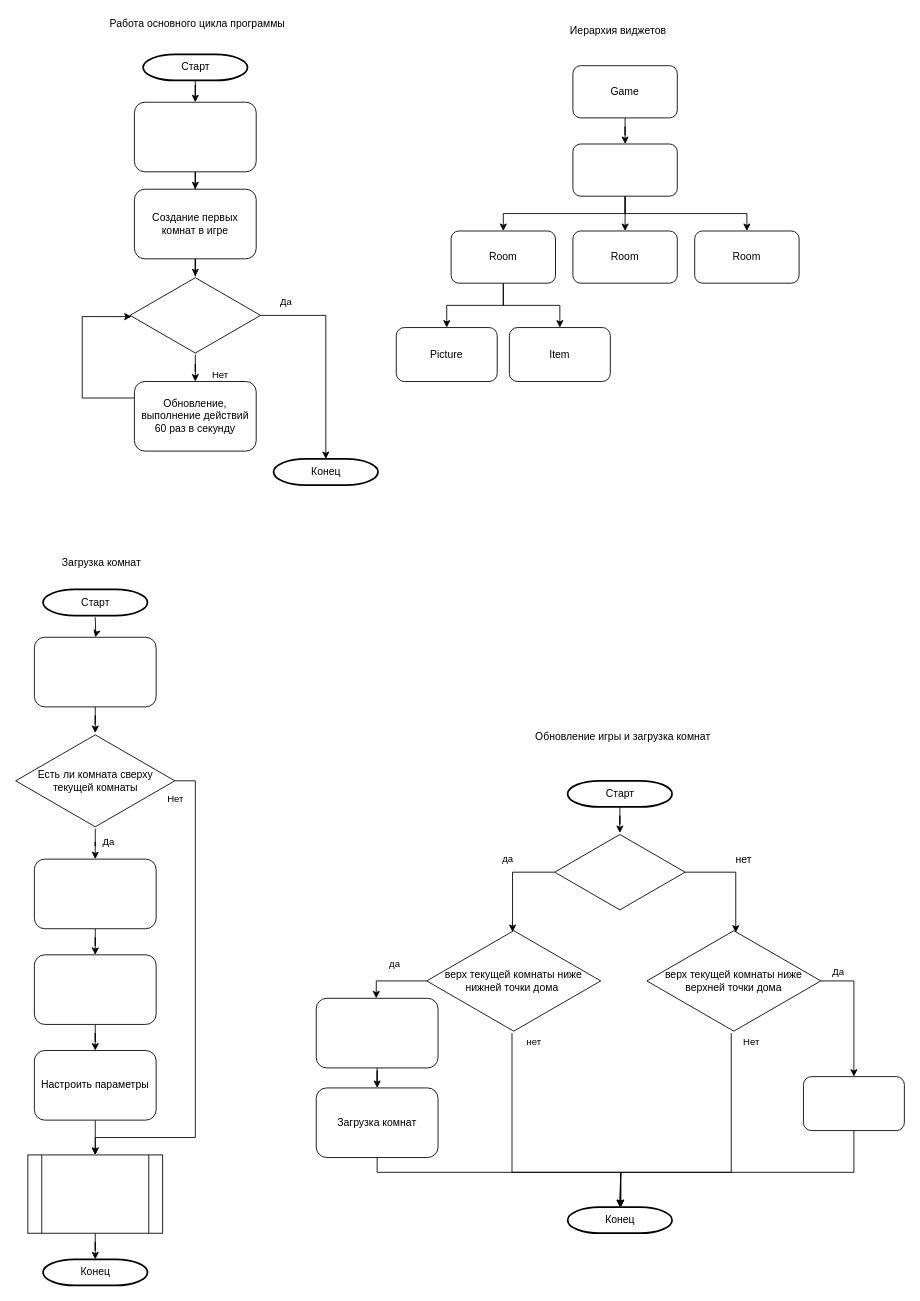
Some shapes in this 920 by 1301 pixel diagram are drawn without their labels. The shapes that lost their labels are listed below. From the top down, each one's centre as x and y in pixels, then its label:
pixel 195 136: Сознание объекта game класса ScrollerGame
pixel 624 169: House
pixel 195 315: программа закрыта
pixel 94 671: Удаление всех детей объекта "house" кроме "cur_room"
pixel 619 871: Сверху есть комната
pixel 94 893: Получить параметры комнаты сверху из словаря
pixel 94 989: Создать комнату сверху
pixel 376 1032: Передача ссылки на верхнюю комнату в переменную "cur_room"
pixel 853 1103: Двигать комнату вниз
pixel 95 1193: Повторить те же действия для комнат снизу, слева и справа
